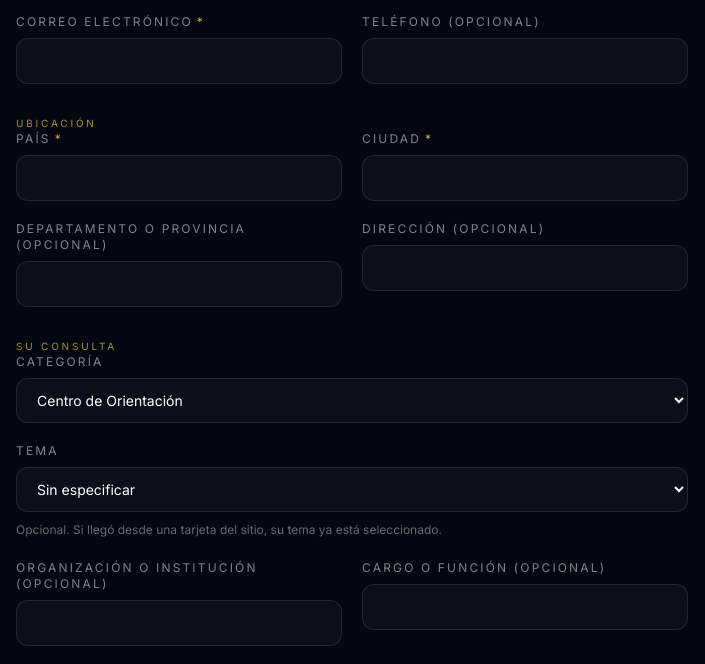
Test: the topic field follows the category › hides the field when moving to a category without topics
(page scrolled)
Check: the dropdown labelled "Tema" is shown, box x1=16 y1=467 x2=688 y2=512
Select "Consulta general" in the dropdown labelled "Categoría" at x=352, y=400, box x1=16 y1=378 x2=688 y2=423
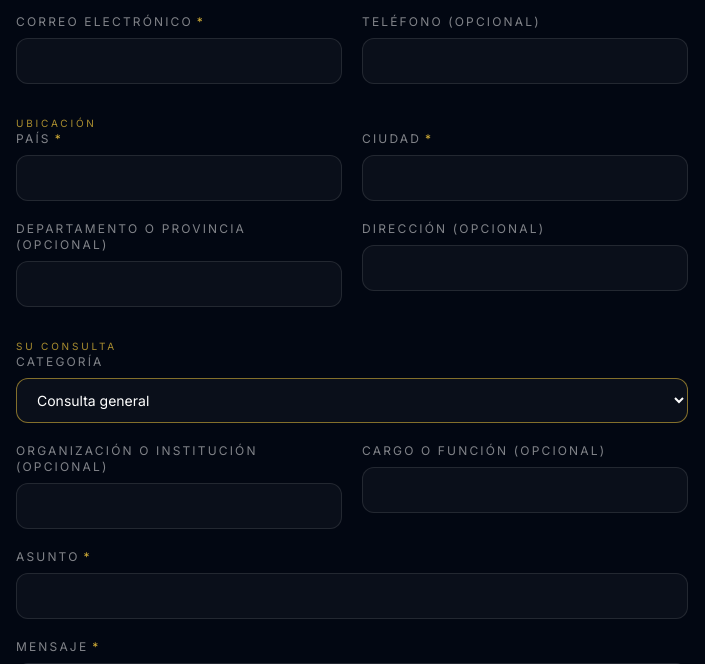
Check: the label labelled "Tema" is gone
